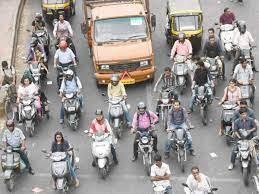helmet: (136, 101, 147, 115), (94, 109, 104, 123), (110, 74, 120, 88), (58, 40, 68, 53), (6, 119, 15, 133), (238, 20, 247, 33), (177, 31, 186, 44), (65, 69, 74, 82), (35, 12, 43, 23)
nohelmet: (191, 166, 200, 179), (21, 75, 31, 86), (54, 131, 63, 143), (239, 107, 248, 119), (229, 78, 237, 89), (223, 7, 232, 16), (164, 67, 172, 77), (208, 28, 215, 37)
